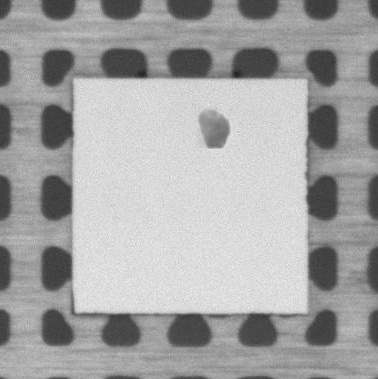DIE_INK: (195, 110, 228, 150)
